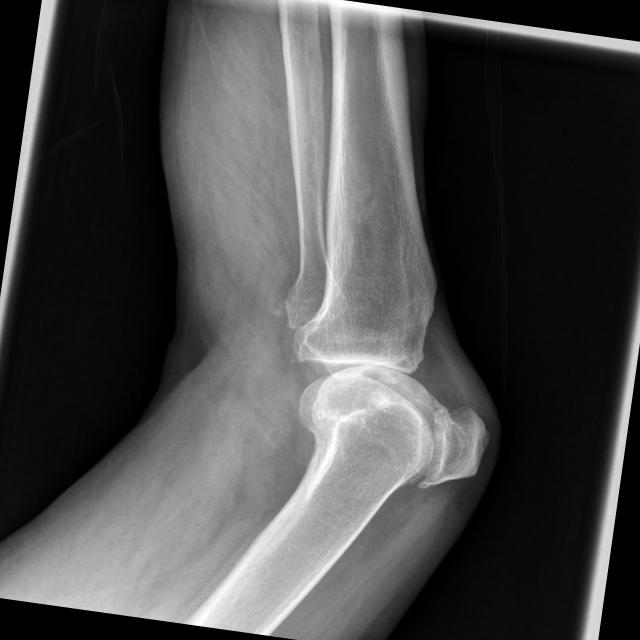Knee: (268, 297, 504, 499)
